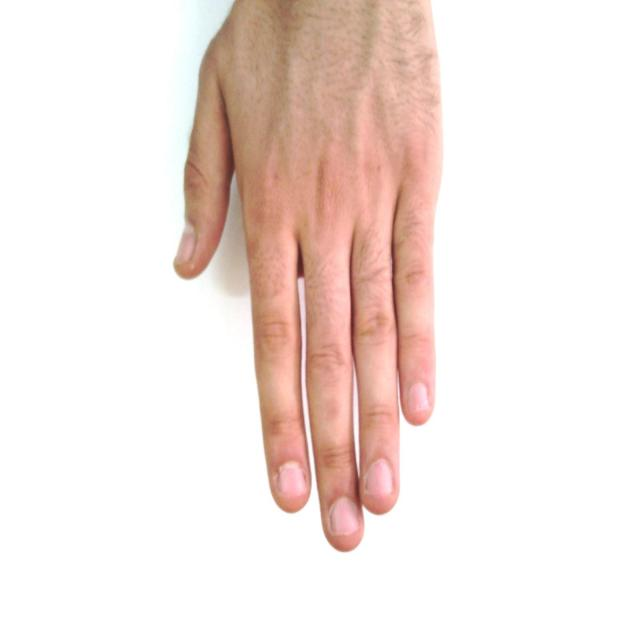others: (144, 1, 501, 584)
